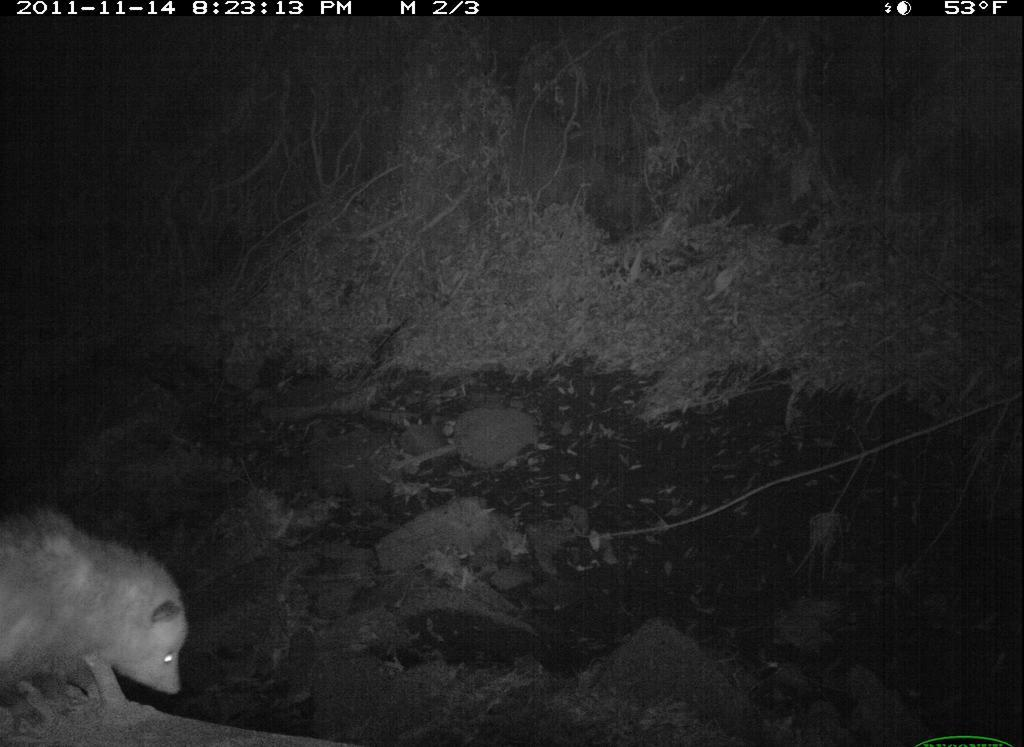opossum: (3, 502, 194, 724)
